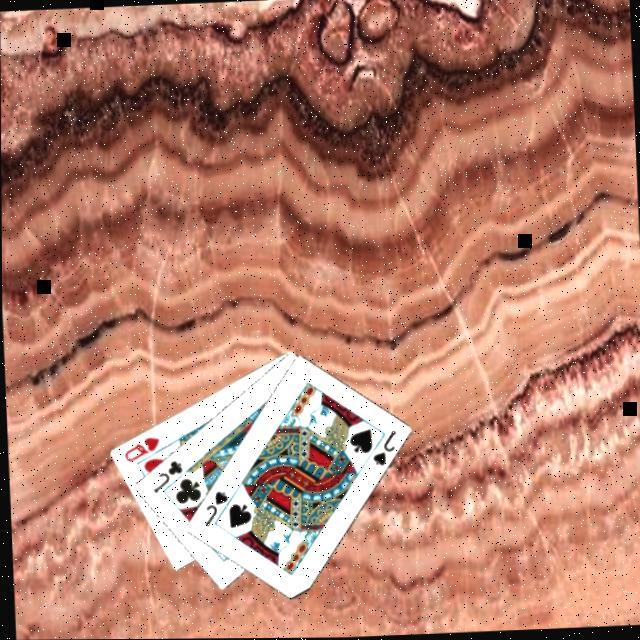JC: (147, 458, 184, 498)
JS: (367, 428, 398, 472), (198, 489, 229, 532)
QH: (118, 435, 160, 466)
